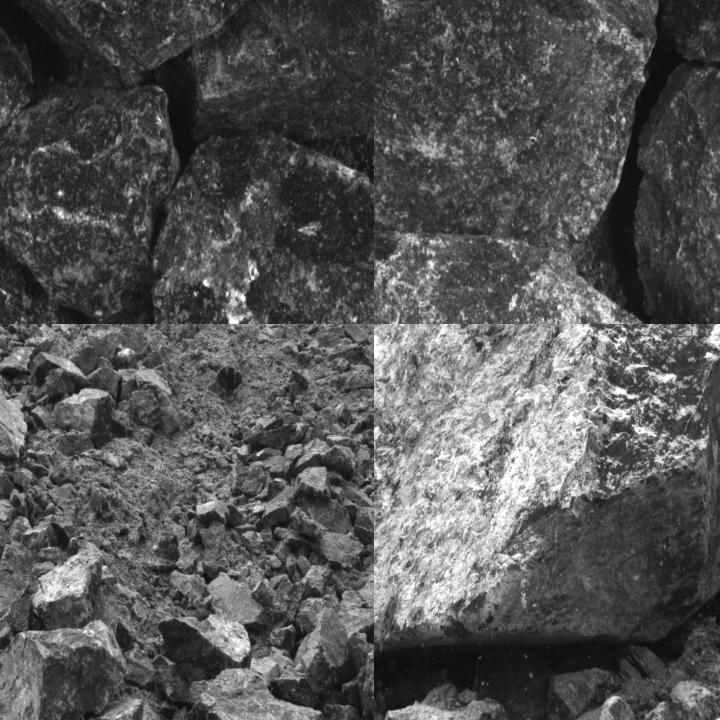stone: (374, 324, 719, 673), (374, 0, 657, 252), (0, 82, 178, 323), (154, 133, 373, 323), (374, 221, 671, 323), (187, 0, 373, 142), (635, 62, 719, 323), (0, 0, 255, 68), (0, 619, 129, 719), (0, 228, 80, 323), (187, 668, 312, 719), (33, 538, 103, 629), (160, 615, 252, 680), (304, 596, 356, 690), (381, 683, 510, 719), (52, 390, 136, 443), (655, 0, 719, 67), (208, 573, 277, 633), (0, 540, 41, 636), (0, 375, 28, 466), (33, 352, 92, 395), (320, 523, 374, 568), (555, 694, 640, 719), (49, 699, 144, 719), (669, 681, 719, 719), (300, 496, 351, 531), (262, 484, 298, 528), (229, 454, 265, 494), (88, 364, 122, 406), (243, 424, 297, 450), (296, 465, 331, 498), (291, 507, 327, 538), (130, 390, 160, 426), (340, 606, 373, 637), (197, 499, 230, 527), (51, 514, 78, 546), (296, 596, 320, 631), (282, 443, 303, 476), (353, 506, 373, 535)
